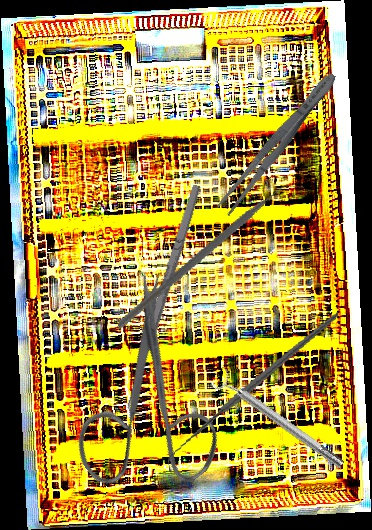Chopper: (116, 144, 305, 370)
Dressing Forceps: (214, 67, 342, 219)
Fixation Ring: (209, 365, 349, 476)
Hook Surgical: (147, 310, 360, 473), (120, 183, 212, 416)
Iris Scissors: (12, 265, 271, 528)
